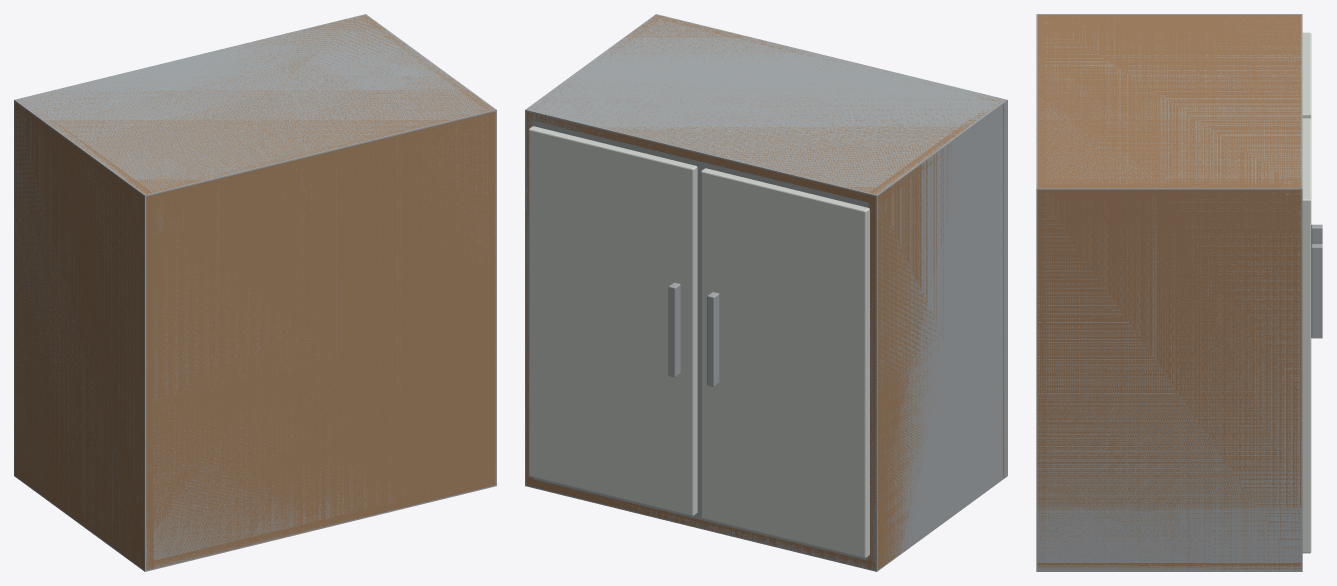
The model's file is utility_module.glb.
3 views of the same model, side by side, from view 1: azimuth 30°, elevation 25°; view 2: azimuth 150°, elevation 25°; view 3: azimuth 270°, elevation 25° (orthographic).
Visible parts, largest first — view 1: propkit_utility_module_001_back, propkit_utility_module_COL, propkit_utility_module_002_side_-1, propkit_utility_module_005_top, propkit_utility_module_004_base, propkit_utility_module_003_side_1; view 2: propkit_utility_module_COL, propkit_utility_module_008_door_1, propkit_utility_module_006_door_-1, propkit_utility_module_002_side_-1, propkit_utility_module_005_top, propkit_utility_module_004_base, propkit_utility_module_003_side_1, propkit_utility_module_009_pull_1, propkit_utility_module_007_pull_-1, propkit_utility_module_001_back; view 3: propkit_utility_module_003_side_1, propkit_utility_module_COL, propkit_utility_module_005_top, propkit_utility_module_001_back, propkit_utility_module_008_door_1, propkit_utility_module_004_base, propkit_utility_module_009_pull_1, propkit_utility_module_002_side_-1, propkit_utility_module_006_door_-1.
Boxes of the visible parts, x1,y1,x2,y2 form: propkit_utility_module_001_back: (140, 107, 495, 569); propkit_utility_module_COL: (14, 14, 496, 571); propkit_utility_module_002_side_-1: (14, 100, 153, 569); propkit_utility_module_005_top: (15, 15, 494, 203); propkit_utility_module_004_base: (15, 470, 494, 568); propkit_utility_module_003_side_1: (360, 15, 495, 482); propkit_utility_module_COL: (525, 14, 1007, 571); propkit_utility_module_008_door_1: (528, 126, 697, 516); propkit_utility_module_006_door_-1: (701, 168, 869, 558); propkit_utility_module_002_side_-1: (868, 100, 1002, 570); propkit_utility_module_005_top: (526, 15, 999, 203); propkit_utility_module_004_base: (526, 478, 912, 569); propkit_utility_module_003_side_1: (526, 15, 663, 486); propkit_utility_module_009_pull_1: (668, 282, 680, 377); propkit_utility_module_007_pull_-1: (707, 292, 719, 386); propkit_utility_module_001_back: (652, 15, 1004, 477); propkit_utility_module_003_side_1: (1037, 184, 1301, 570); propkit_utility_module_COL: (1036, 14, 1302, 571); propkit_utility_module_005_top: (1037, 14, 1301, 197); propkit_utility_module_001_back: (1037, 14, 1046, 569); propkit_utility_module_008_door_1: (1302, 118, 1311, 553); propkit_utility_module_004_base: (1037, 563, 1301, 569); propkit_utility_module_009_pull_1: (1311, 244, 1322, 338); propkit_utility_module_002_side_-1: (1039, 14, 1301, 18); propkit_utility_module_006_door_-1: (1302, 32, 1311, 118).
Size of the model in its own units: 0.9 by 0.92 by 0.6235.
